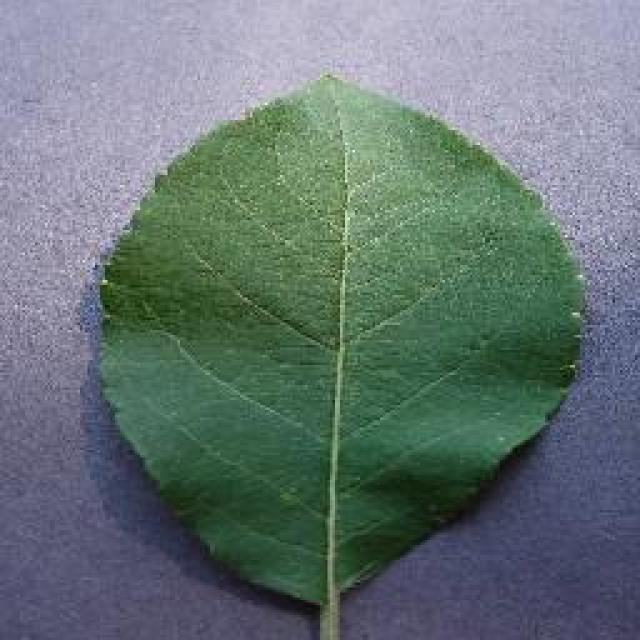apple healthy: (90, 68, 590, 638)
